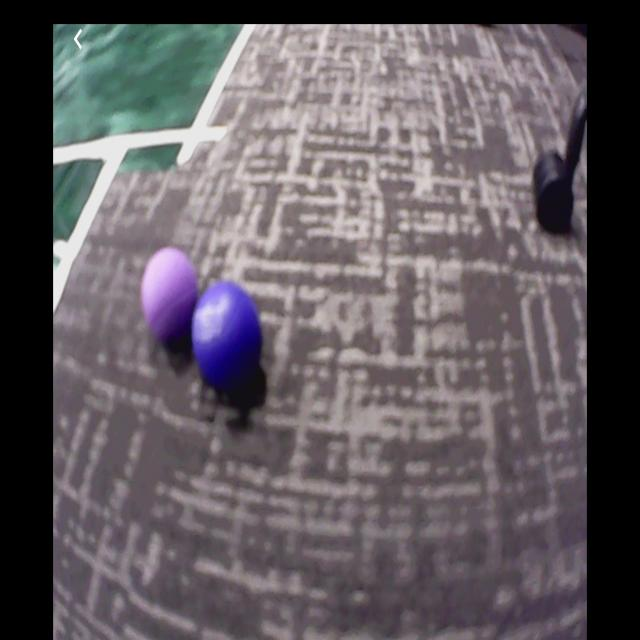ball: (193, 286, 264, 389), (144, 251, 196, 338)
